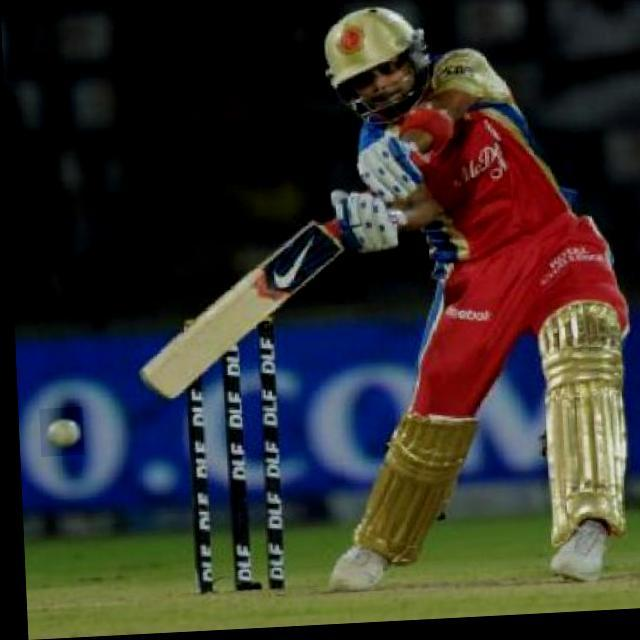-: (35, 408, 80, 458)
